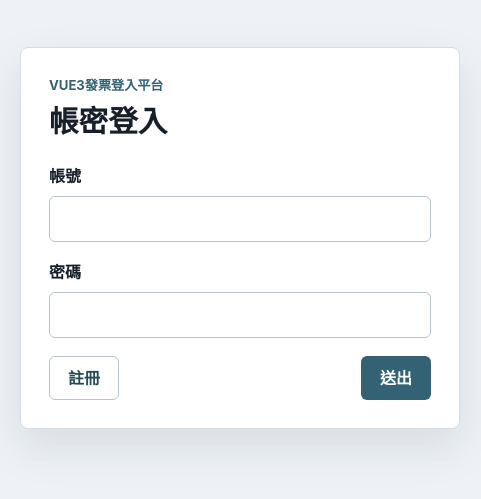
Scenario: LoginView › 帳號或密碼不足 8 碼時不送出 API
Step 1. Type "tommy" into the field labelled "帳號" → (240, 219), box 49,196 -> 431,242
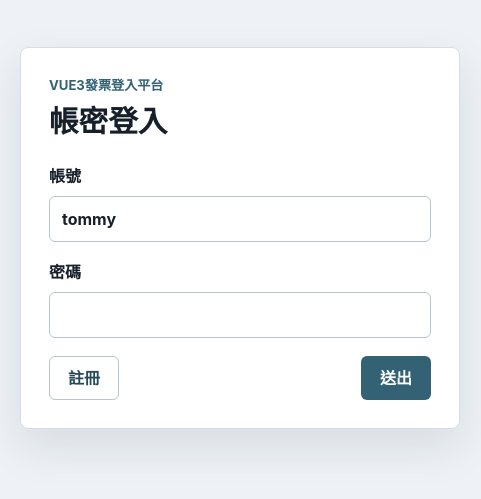
Step 2. Type "pass123" into the password field labelled "密碼" → (240, 315), box 49,292 -> 431,338
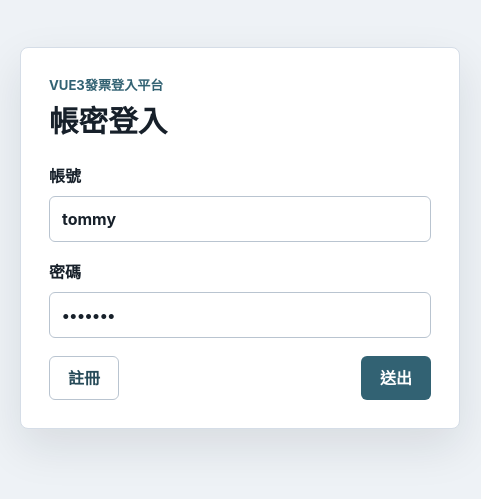
Step 3. Click the button "送出" → (396, 378), box 361,356 -> 431,400
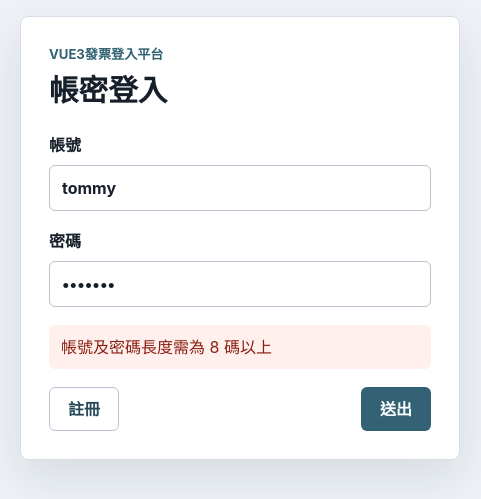
Expected: the message reads "帳號及密碼長度需為 8 碼以上", 61,337 -> 272,357
